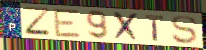9: (85, 10, 111, 41)
E: (52, 8, 83, 40)
S: (170, 15, 199, 45)
T: (144, 14, 166, 42)
X: (112, 10, 141, 43)
Z: (23, 6, 53, 38)
